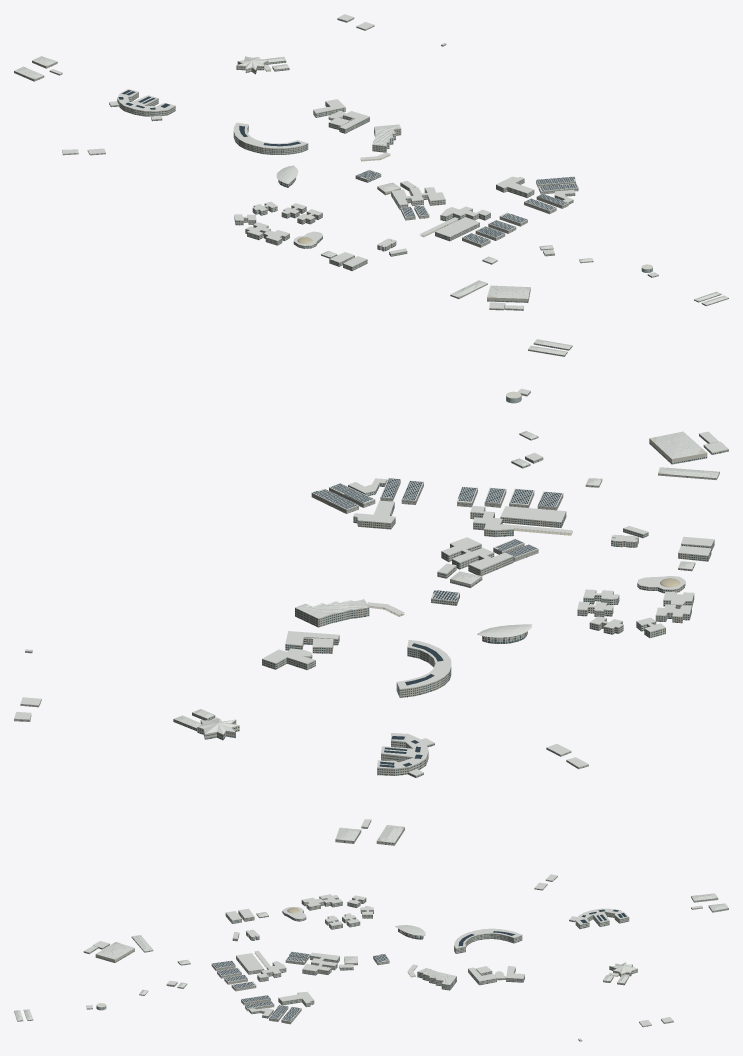
The model's file is UMPSA-Pekan.glb.
3 views of the same model, one above another, from view 1: azimuth 30°, elevation 25°; view 2: azimuth 150°, elevation 25°; view 3: azimuth 270°, elevation 25° (orthographic). The views are drawn at different scales.
Parts seen in each view (by area): view 1: Canseleri Tun Abdul Razak (CTAR) - campus exterior, Fakulti Komputeran (FK) - campus exterior, Fakulti Teknologi Kejuruteraan Elektrik dan Elektronik (FTKE, Kompleks Sukan UMPSA Pekan - indoor hall - campus exterior, Perpustakaan UMPSA Pekan - campus exterior, FTKMA west teaching block - campus exterior, Canseleri precinct - southeast academic wing - campus exteri, Fakulti Teknologi Kejuruteraan Mekanikal dan Automotif (FTKM, Faculty of Engineering Technology - main block - campus exte; view 2: Canseleri Tun Abdul Razak (CTAR) - campus exterior, Fakulti Komputeran (FK) - campus exterior, Fakulti Teknologi Kejuruteraan Elektrik dan Elektronik (FTKE, Perpustakaan UMPSA Pekan - campus exterior, Kompleks Sukan UMPSA Pekan - indoor hall - campus exterior, FTKMA west teaching block - campus exterior, Canseleri precinct - southeast academic wing - campus exteri, Fakulti Teknologi Kejuruteraan Mekanikal dan Automotif (FTKM, Faculty of Engineering Technology - main block - campus exte, Dewan Konvokesyen - campus exterior; view 3: Canseleri Tun Abdul Razak (CTAR) - campus exterior, Fakulti Komputeran (FK) - campus exterior, Fakulti Teknologi Kejuruteraan Elektrik dan Elektronik (FTKE, Perpustakaan UMPSA Pekan - campus exterior, Kompleks Sukan UMPSA Pekan - indoor hall - campus exterior, Canseleri precinct - southeast academic wing - campus exteri, FTKMA west teaching block - campus exterior, Faculty of Engineering Technology - main block - campus exte, Fakulti Teknologi Kejuruteraan Mekanikal dan Automotif (FTKM, Dewan Konvokesyen - campus exterior.
Boxes of the visible parts, x1,y1,x2,y2 form: Canseleri Tun Abdul Razak (CTAR) - campus exterior: (233,122,308,154); Fakulti Komputeran (FK) - campus exterior: (117,89,175,116); Fakulti Teknologi Kejuruteraan Elektrik dan Elektronik (FTKE: (391,187,445,209); Kompleks Sukan UMPSA Pekan - indoor hall - campus exterior: (487,285,530,302); Perpustakaan UMPSA Pekan - campus exterior: (372,124,401,152); FTKMA west teaching block - campus exterior: (435,217,479,241); Canseleri precinct - southeast academic wing - campus exteri: (328,111,369,133); Fakulti Teknologi Kejuruteraan Mekanikal dan Automotif (FTKM: (440,206,490,221); Faculty of Engineering Technology - main block - campus exte: (496,176,534,198); Canseleri Tun Abdul Razak (CTAR) - campus exterior: (396,640,451,697); Fakulti Komputeran (FK) - campus exterior: (377,733,428,775); Fakulti Teknologi Kejuruteraan Elektrik dan Elektronik (FTKE: (441,537,513,575); Perpustakaan UMPSA Pekan - campus exterior: (295,599,369,627); Kompleks Sukan UMPSA Pekan - indoor hall - campus exterior: (649,431,707,464); FTKMA west teaching block - campus exterior: (500,506,566,528); Canseleri precinct - southeast academic wing - campus exteri: (285,631,339,653); Fakulti Teknologi Kejuruteraan Mekanikal dan Automotif (FTKM: (470,506,513,537); Faculty of Engineering Technology - main block - campus exte: (353,500,395,529); Dewan Konvokesyen - campus exterior: (477,624,532,643); Canseleri Tun Abdul Razak (CTAR) - campus exterior: (454,928,522,953); Fakulti Komputeran (FK) - campus exterior: (575,908,629,929); Fakulti Teknologi Kejuruteraan Elektrik dan Elektronik (FTKE: (302,952,339,975); Perpustakaan UMPSA Pekan - campus exterior: (417,968,456,990); Kompleks Sukan UMPSA Pekan - indoor hall - campus exterior: (95,942,134,962); Canseleri precinct - southeast academic wing - campus exteri: (468,966,496,985); FTKMA west teaching block - campus exterior: (236,953,264,974); Faculty of Engineering Technology - main block - campus exte: (278,991,314,1007); Fakulti Teknologi Kejuruteraan Mekanikal dan Automotif (FTKM: (257,961,286,981); Dewan Konvokesyen - campus exterior: (395,925,425,939).
Size of the model in its own units: 1134 by 18.99 by 2059.
